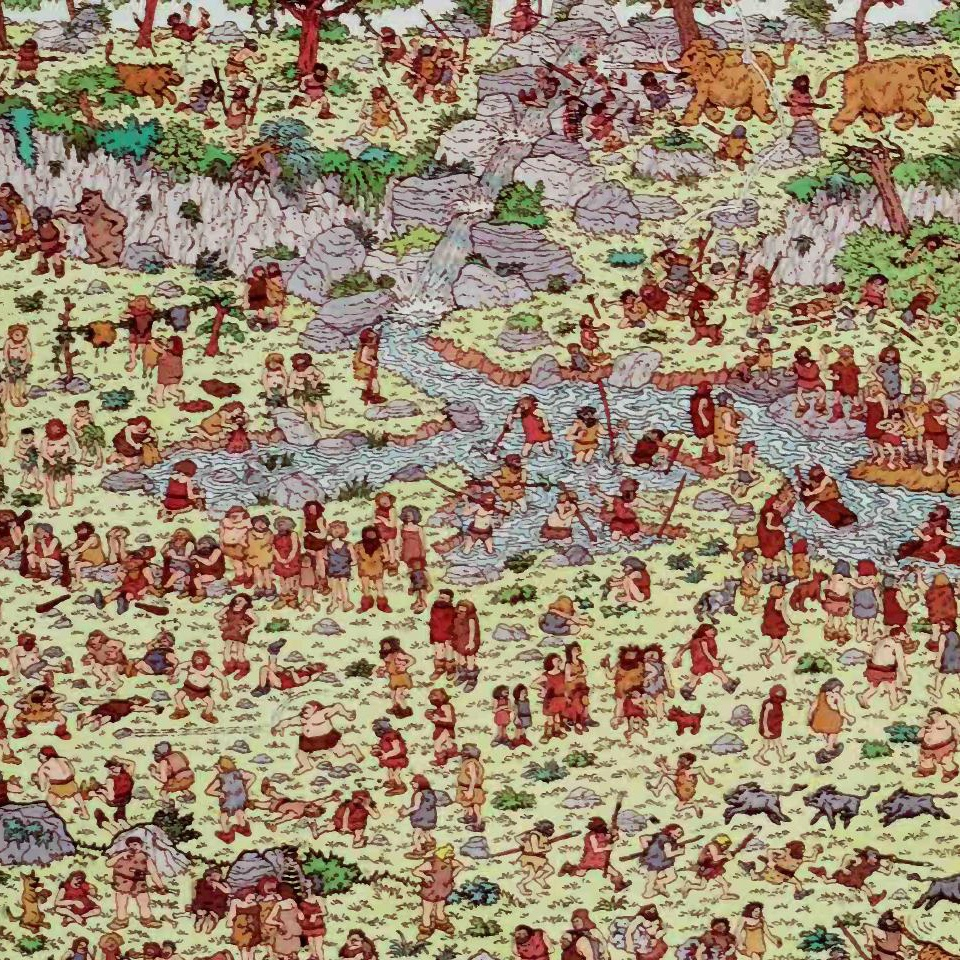waldo: (563, 90, 582, 141)
